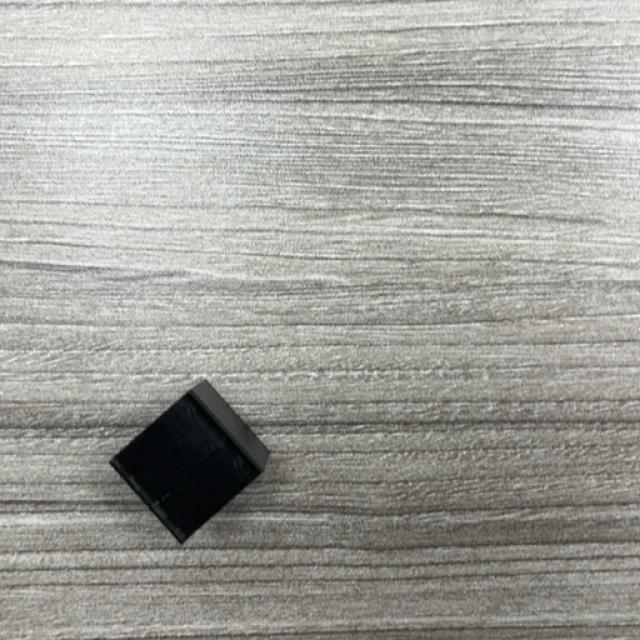Negro: (109, 380, 270, 546)
